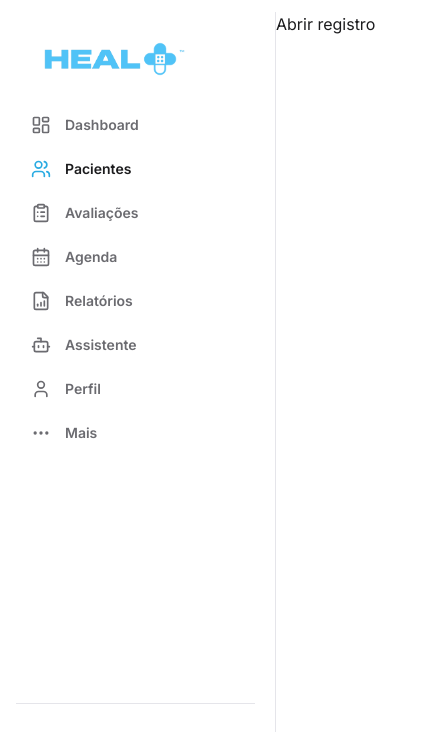
Test: AppShell navigation context › announces page title and moves focus after route navigation
This screenshot has width=423, height=732.
Click the link "Abrir registro" at (326, 24), box [276,14,375,34]
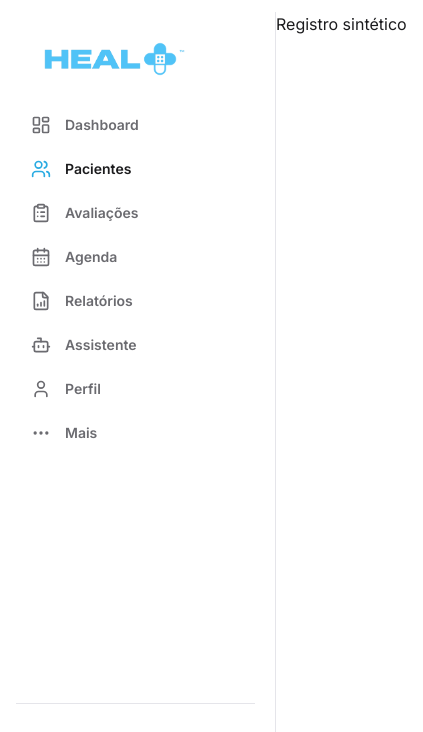
Check: the heading "Registro sintético" is shown, box [276,14,407,34]
